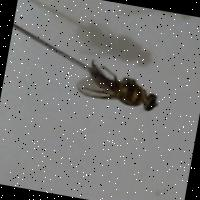Oriental-fruit-fly: (64, 30, 198, 128)
